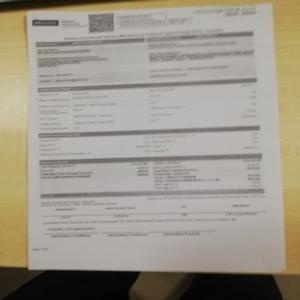image: (30, 15, 61, 27)
table: (33, 79, 260, 127), (33, 30, 256, 78), (38, 155, 266, 194), (35, 127, 264, 155)
